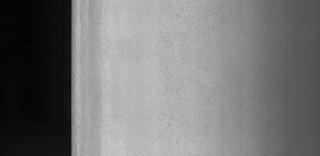silk spot: (144, 2, 238, 156)
